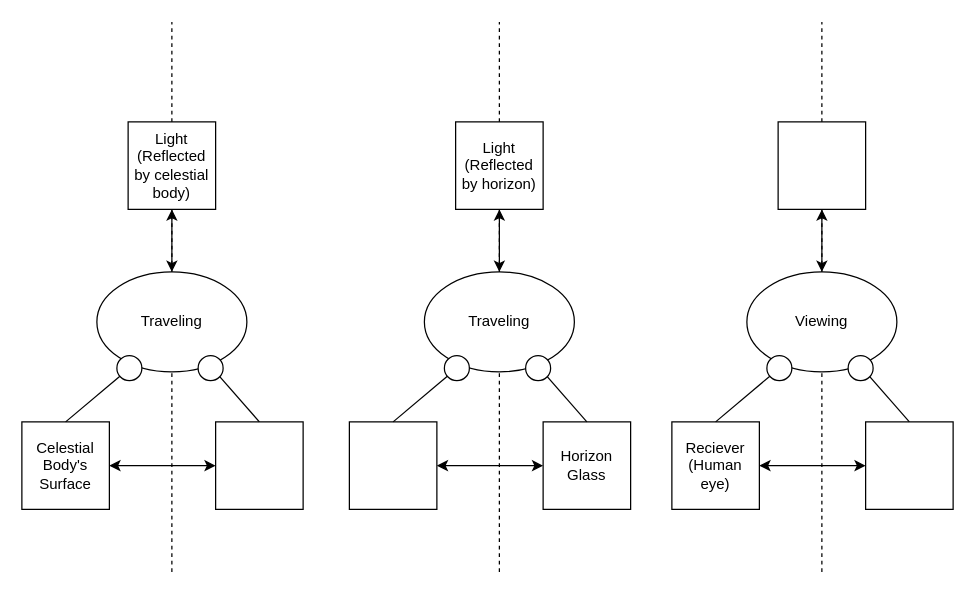
Some shapes in this 975 by 595 pixel diagram are drawn without their labels. Each missing label, with the centre of its shape:
Arm's Position: point 821,165
Graduated & Vernier Scales: point 908,465
Horizon: point 392,465
Index Mirror: point 258,465
